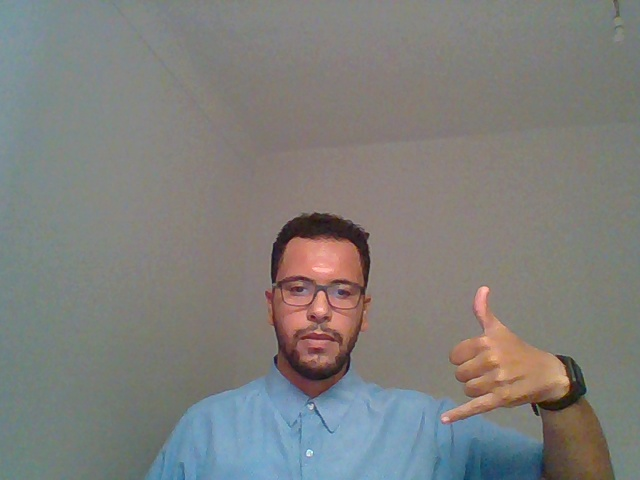callme: (390, 247, 595, 450)
